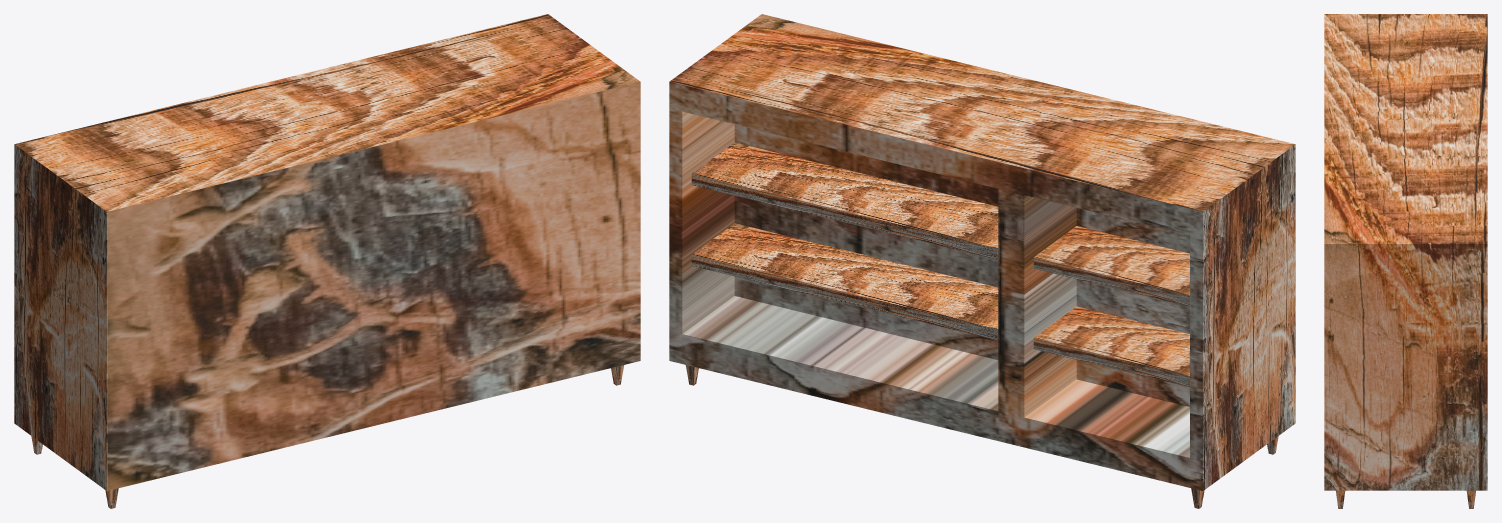
The model's file is Dulap.fbx.
The picture shows the model from 3 angles, left to right: view 1: azimuth 30°, elevation 25°; view 2: azimuth 150°, elevation 25°; view 3: azimuth 270°, elevation 25°; orthographic projection. The views are drawn at different scales.
Parts seen in each view (by area): view 1: Cube.005; view 2: Cube.005; view 3: Cube.005.
Boxes of the visible parts, x1,y1,x2,y2 form: Cube.005: [14, 14, 640, 508]; Cube.005: [669, 14, 1295, 508]; Cube.005: [1324, 14, 1487, 508].
Size of the model in its own units: 2000 by 1095 by 600.
Materials: 1 (1 with a texture image).
